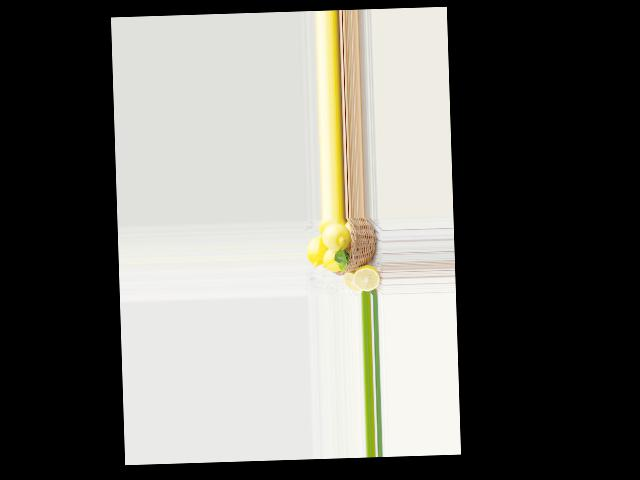lemon: (321, 245, 348, 274)
